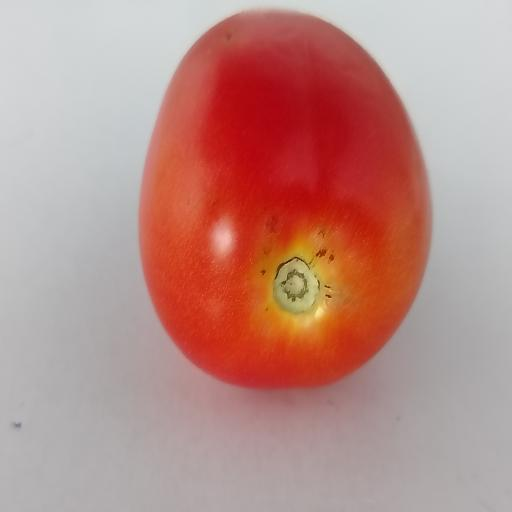ripe: (140, 11, 431, 387)
